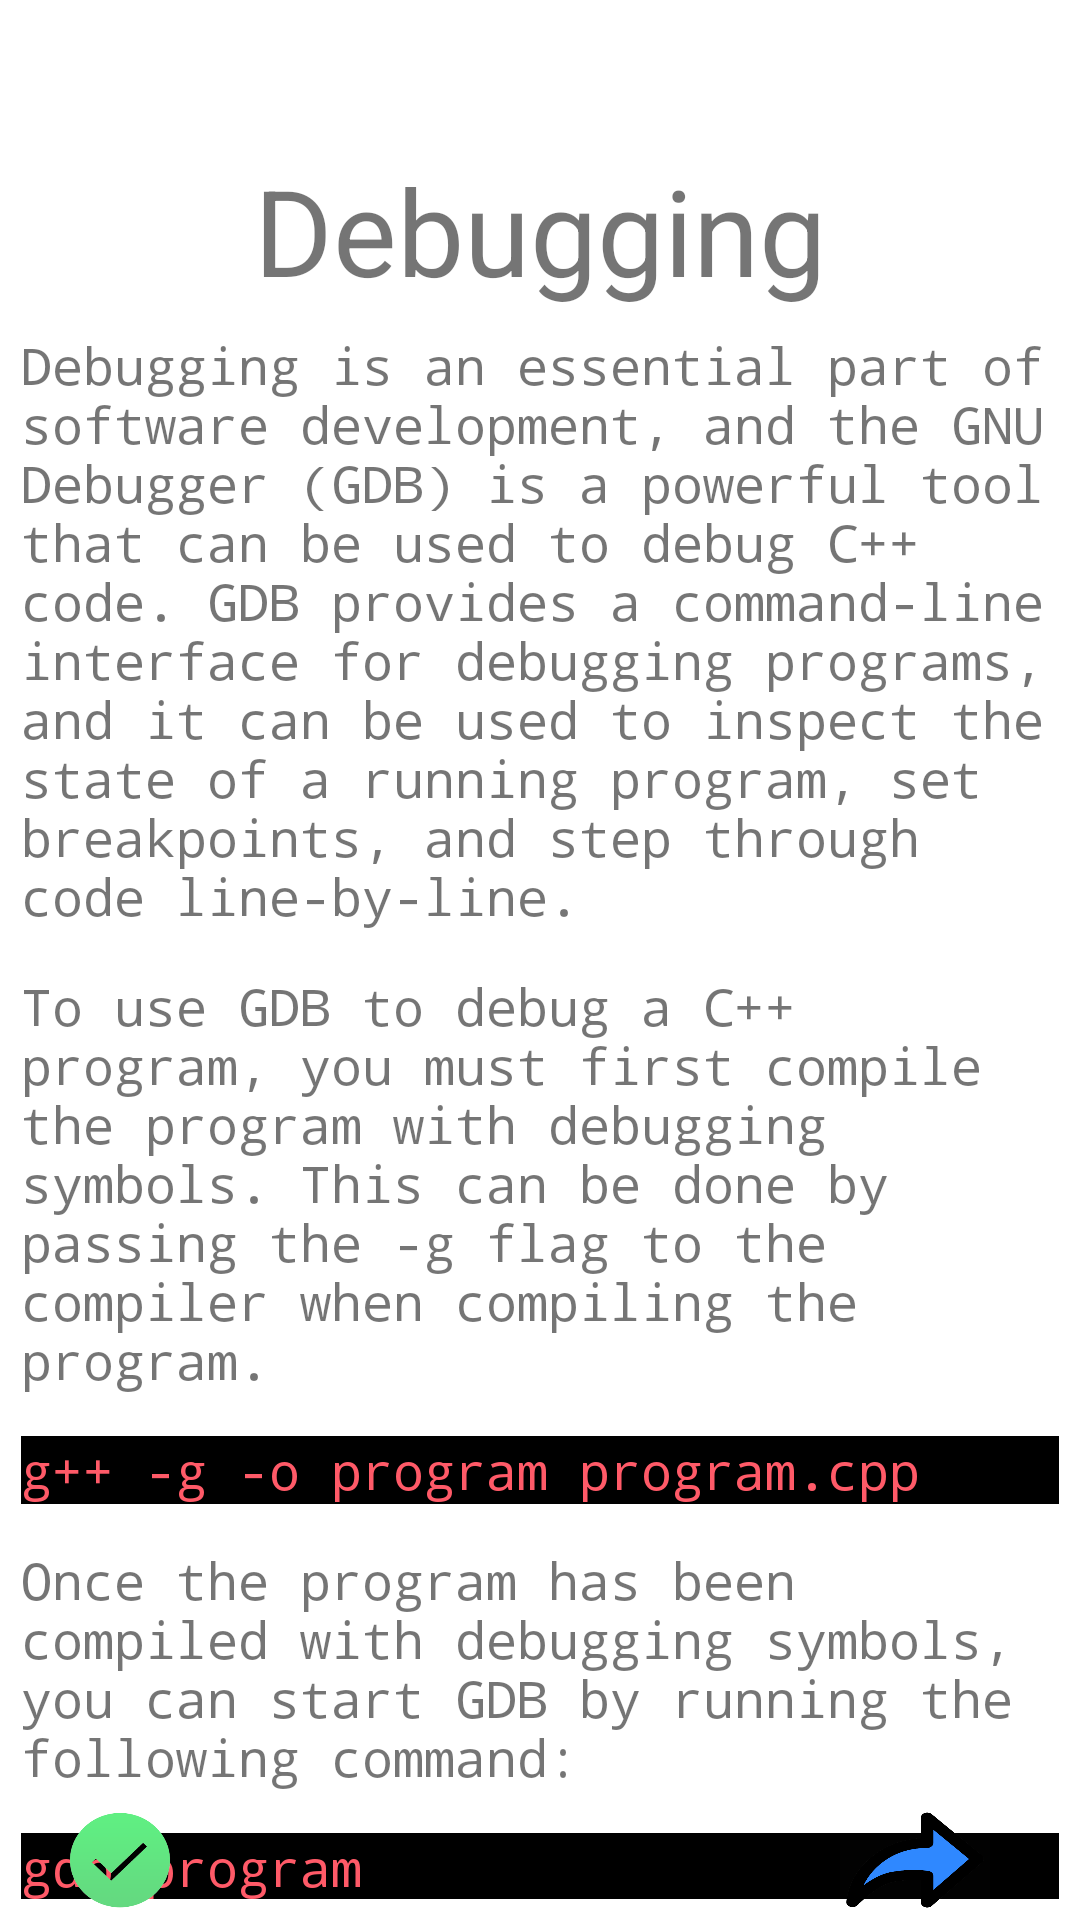

Icons on this 1080 × 1920 Android screen, each with its box as (x1, y1, x2, y2):
next: (840, 1812, 990, 1908)
